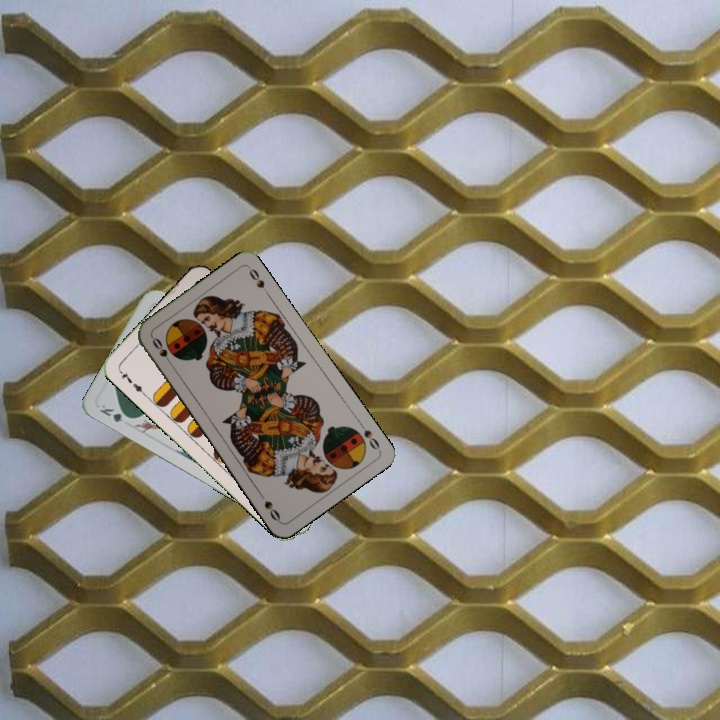E7: (115, 366, 148, 398)
GK: (95, 400, 135, 425)
SO: (148, 333, 175, 369), (355, 417, 382, 453)
